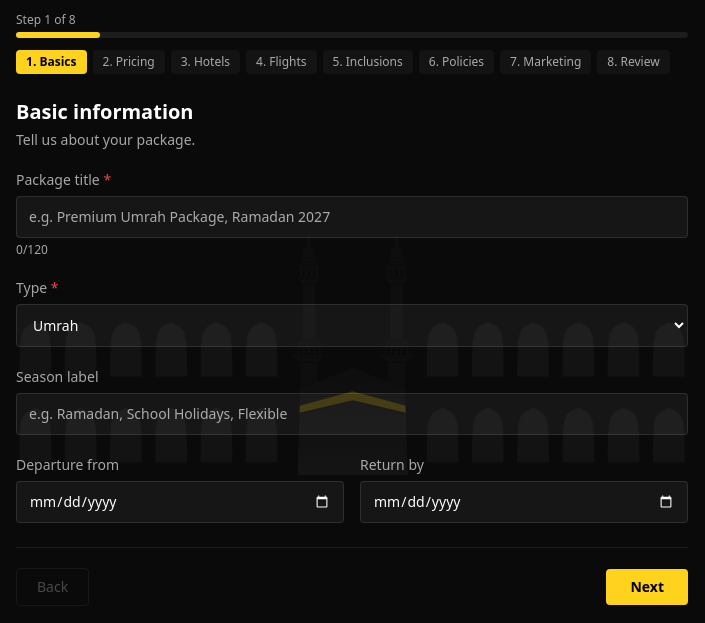
Test case: PackageWizard › goes back to step 1 from step 2
Note: Advance to step 2
Type "Valid Package Title" into the field with test id "wizard-title" at (352, 217), box [16, 196, 688, 238]
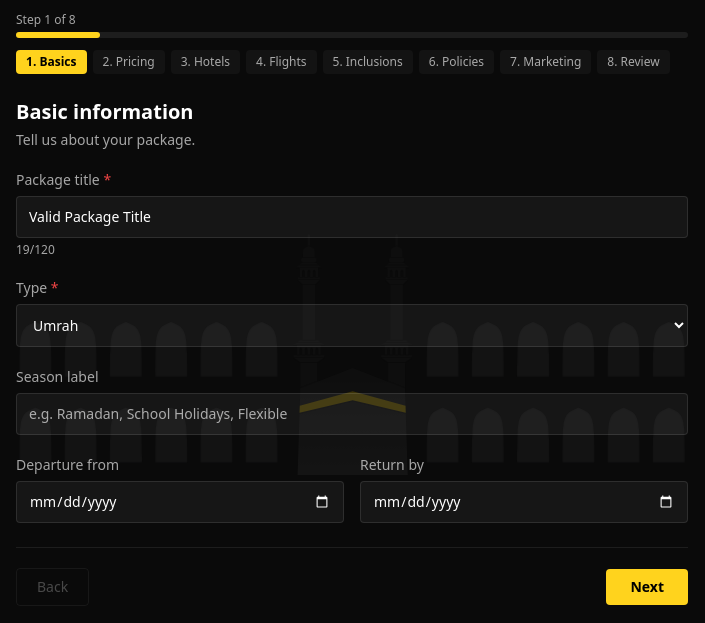
Click the button with test id "wizard-next-btn" at (647, 587), box [606, 569, 688, 605]
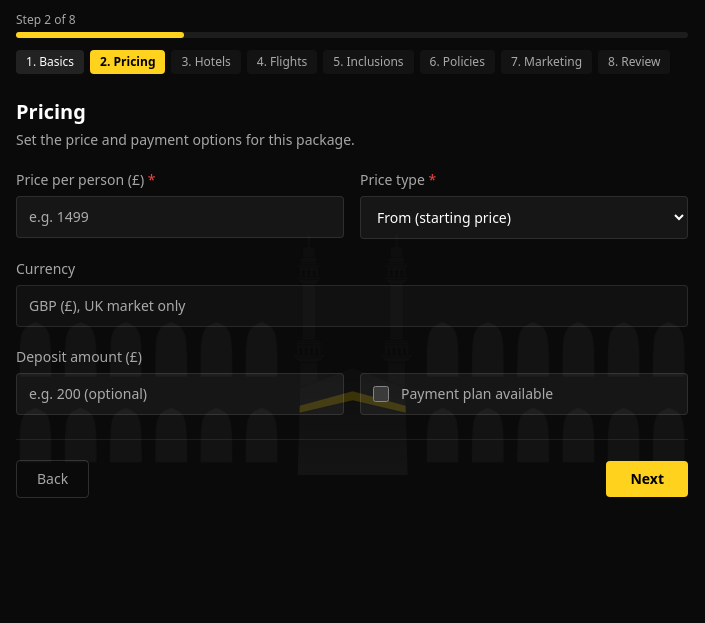
Check: the number field with test id "wizard-price" is shown, box [16, 196, 344, 238]
Note: Back to step 1
Click the button with test id "wizard-back-btn" at (53, 479), box [16, 460, 89, 498]
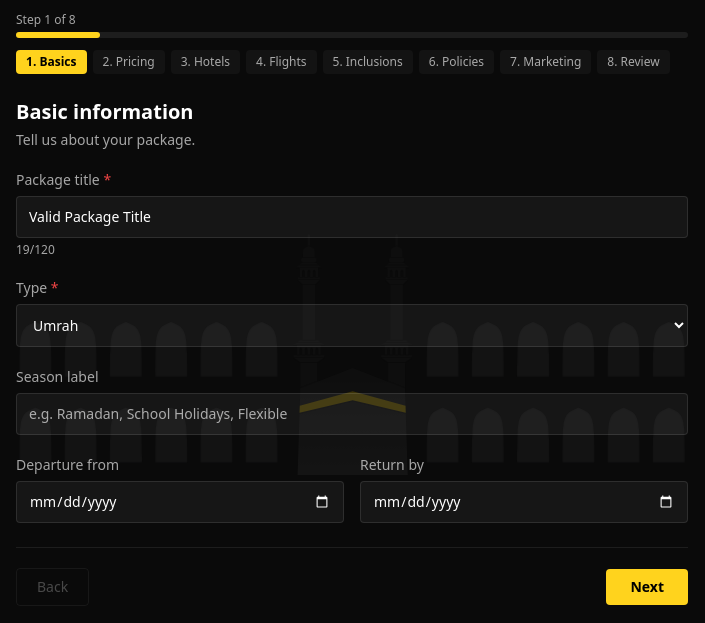
Check: the field with test id "wizard-title" is shown, box [16, 196, 688, 238]
